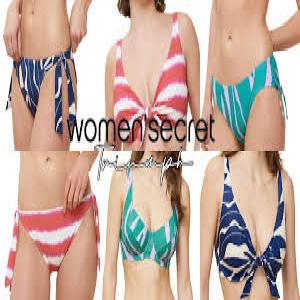women_secret: (65, 114, 216, 151)
